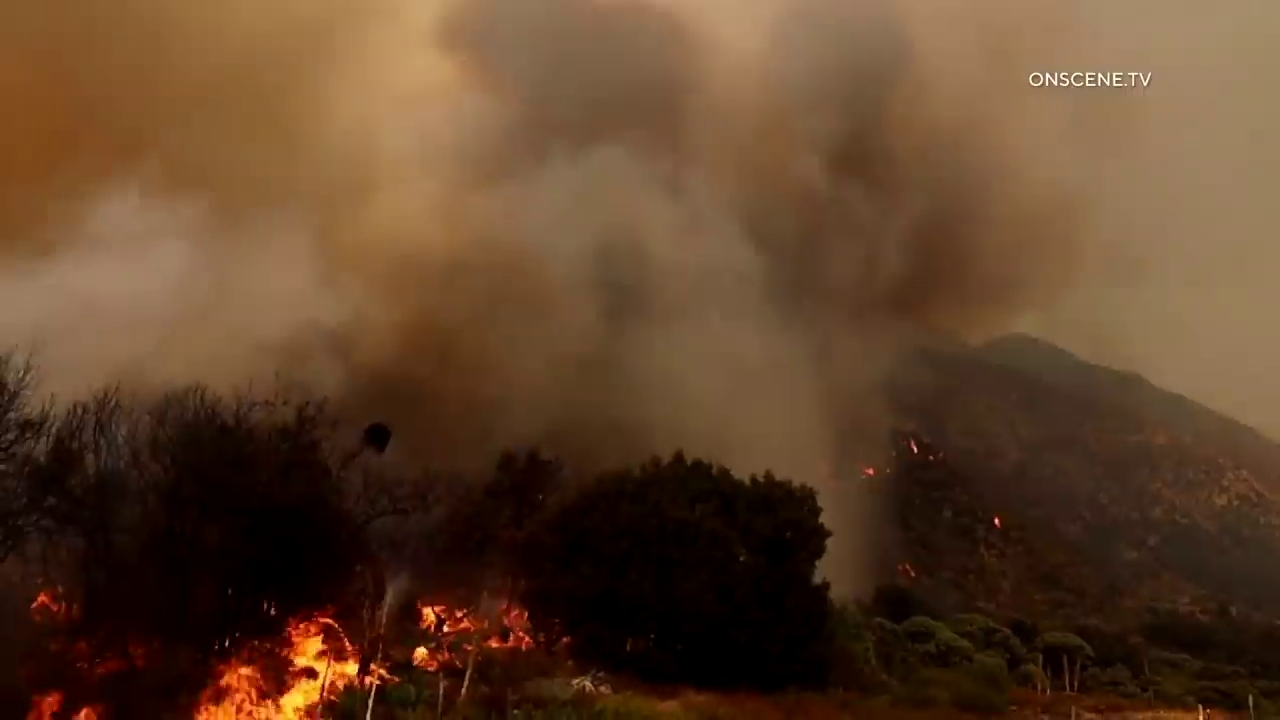forest_fire: (194, 617, 359, 719), (411, 604, 532, 669), (30, 590, 69, 618), (26, 691, 63, 719)
